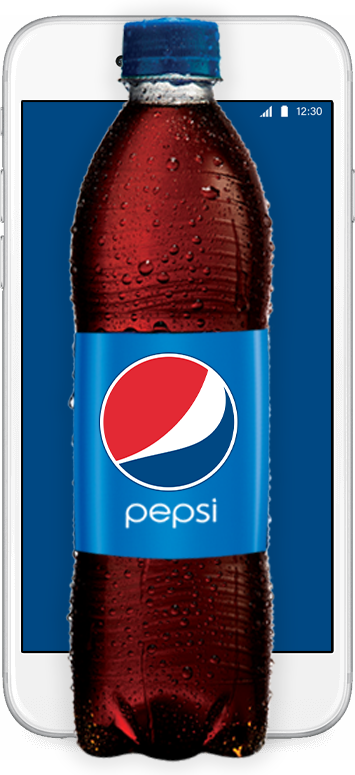pepsi: (95, 350, 239, 490), (95, 354, 239, 490)
